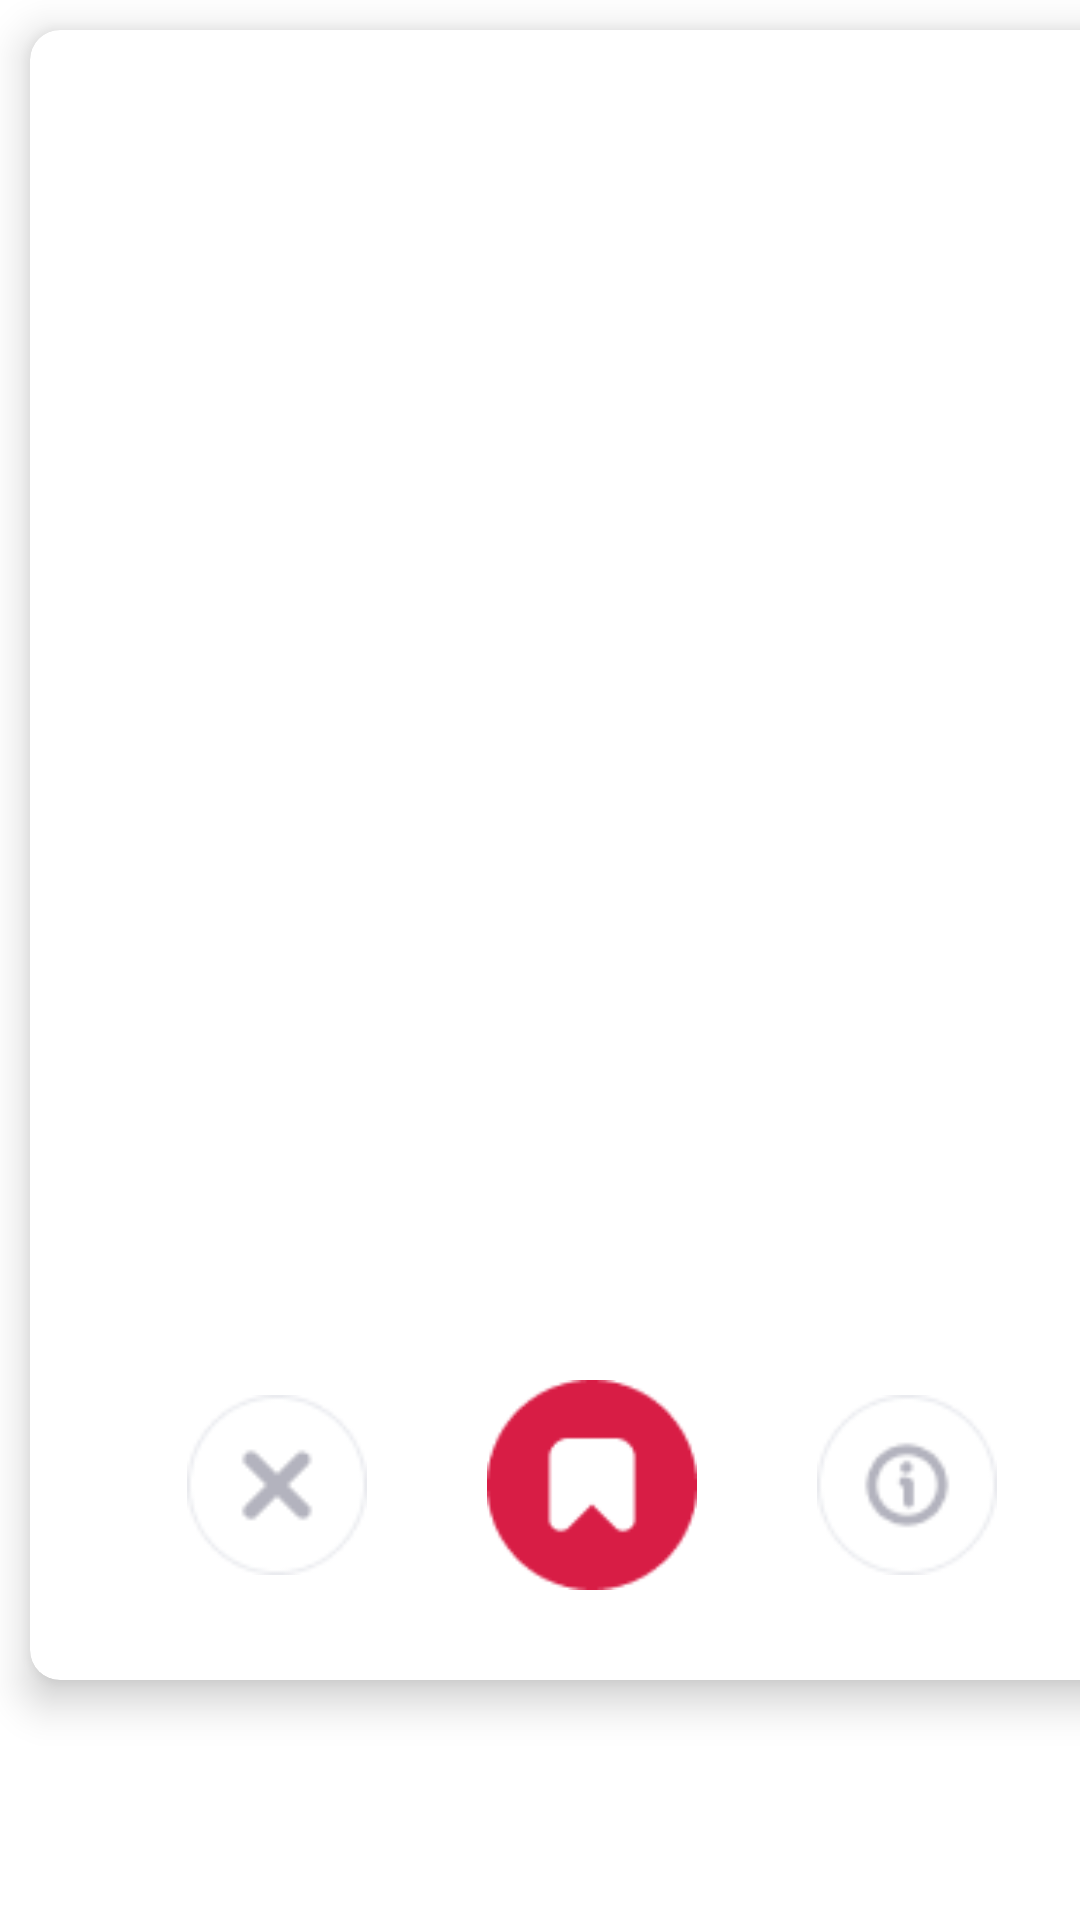

Icons on this 1080×1920 Android screen, each with its box as (x1,y1,x2,y2):
bookmark: (487,1380,697,1590)
close: (242,1451,312,1520)
info: (865,1443,949,1527)
